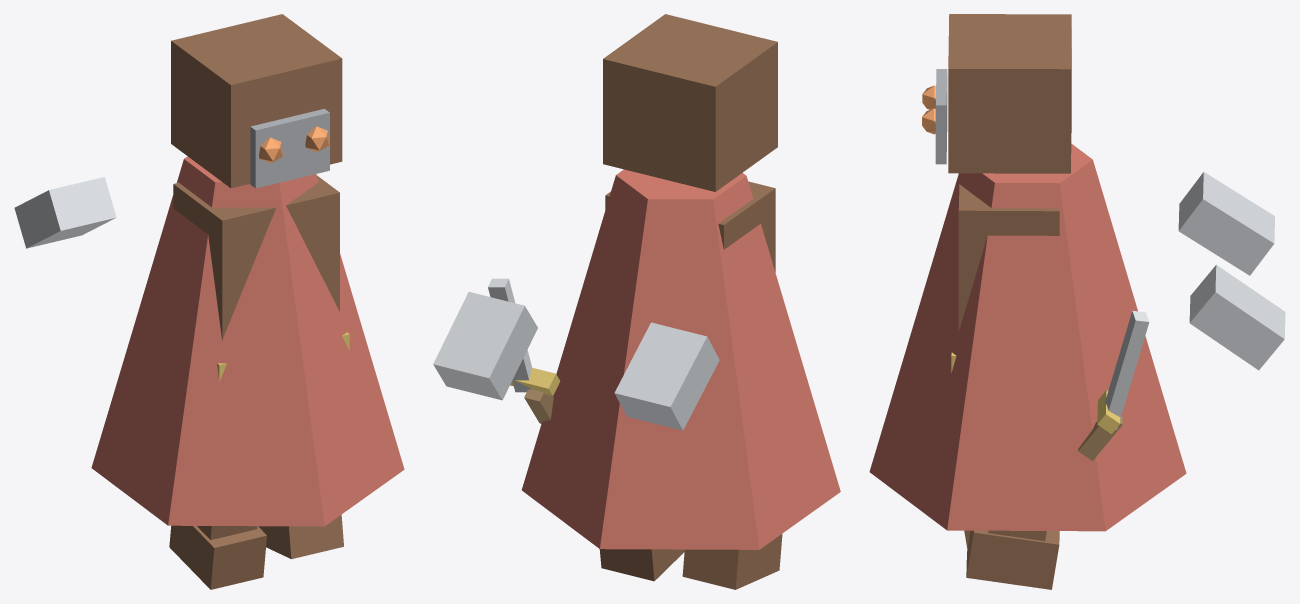
The model's file is npcpose_raider_attack_13.glb.
3 views of the same model, side by side, from view 1: azimuth 30°, elevation 25°; view 2: azimuth 150°, elevation 25°; view 3: azimuth 270°, elevation 25° (orthographic).
Parts seen in each view (by area): view 1: npcpose; view 2: npcpose; view 3: npcpose.
Boxes of the visible parts, bbox=[...] form: npcpose: bbox=[14, 14, 404, 589]; npcpose: bbox=[433, 14, 840, 589]; npcpose: bbox=[869, 14, 1285, 589].
Bounding box in the file's own units: 0.8166 × 1.58 × 1.15.
